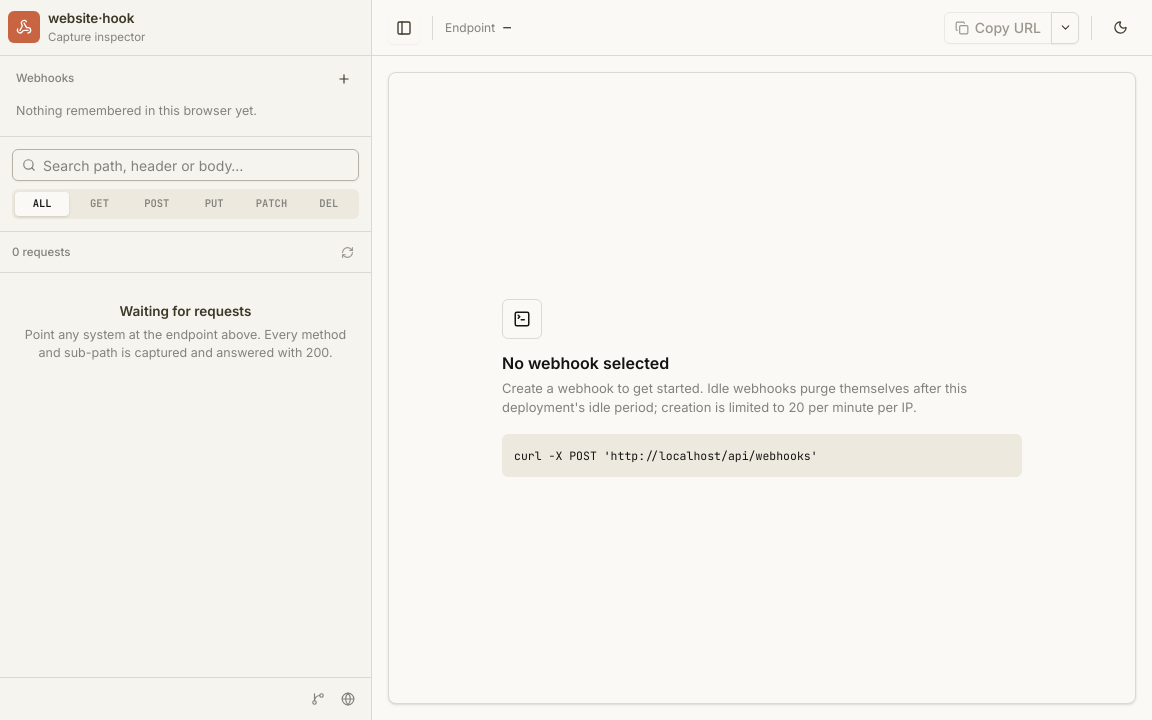
Test: Inspector integration — create flow › shows the rate-limit notice when creation is rate limited
Click the button named "New webhook". click: (344, 78)
box: 333,68 -> 355,90
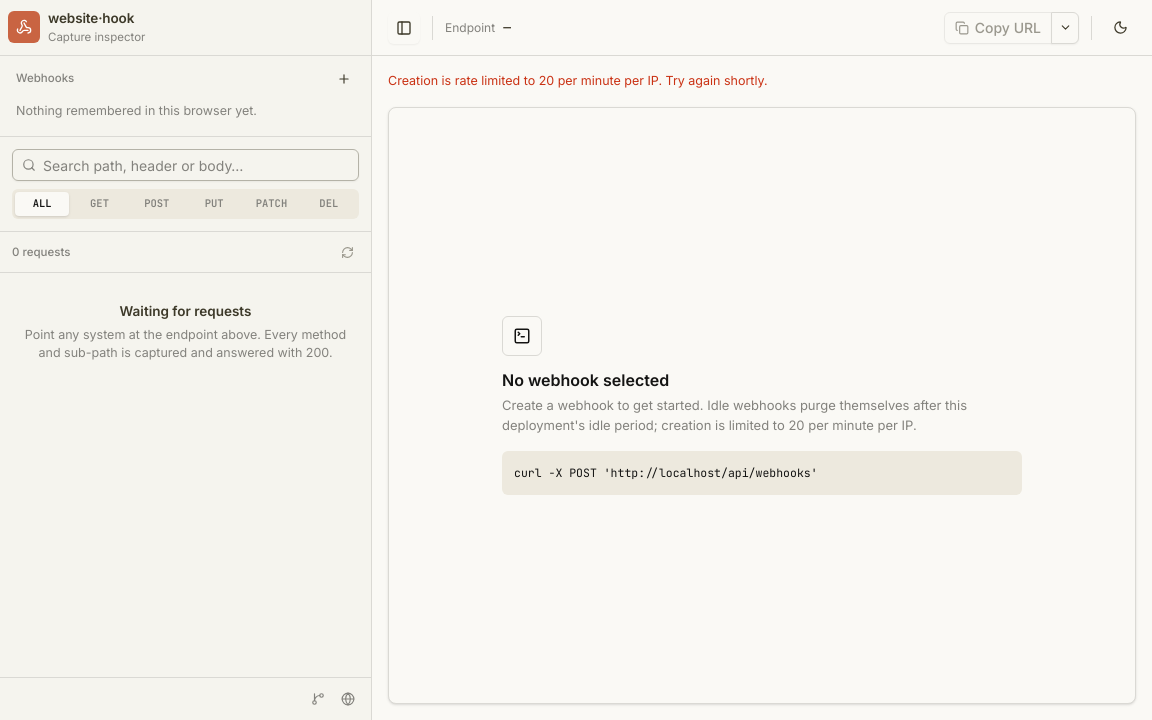
expect the text "Creation is rate limited to 20 per minute per IP. Try again shortly." is shown: met, box 388,73 -> 768,88
